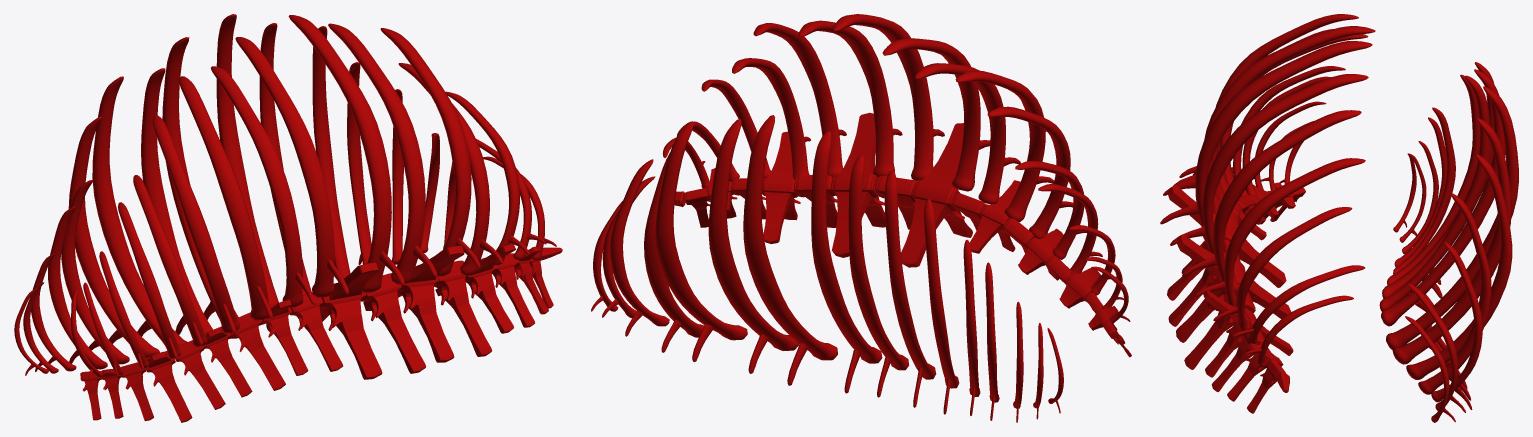
File: Asset_WhaleBone02.fbx
The picture shows the model from 3 angles, left to right: view 1: azimuth 30°, elevation 25°; view 2: azimuth 150°, elevation 25°; view 3: azimuth 270°, elevation 25°; orthographic projection. The views are drawn at different scales.
Visible parts, largest first — view 1: pCube533; view 2: pCube533; view 3: pCube533.
Part boxes in pixels (x1=…): pCube533: x1=14, y1=14, x2=562, y2=422; pCube533: x1=591, y1=14, x2=1131, y2=422; pCube533: x1=1160, y1=14, x2=1518, y2=422.
Size of the model in its own units: 5.56 by 3.67 by 3.79.
